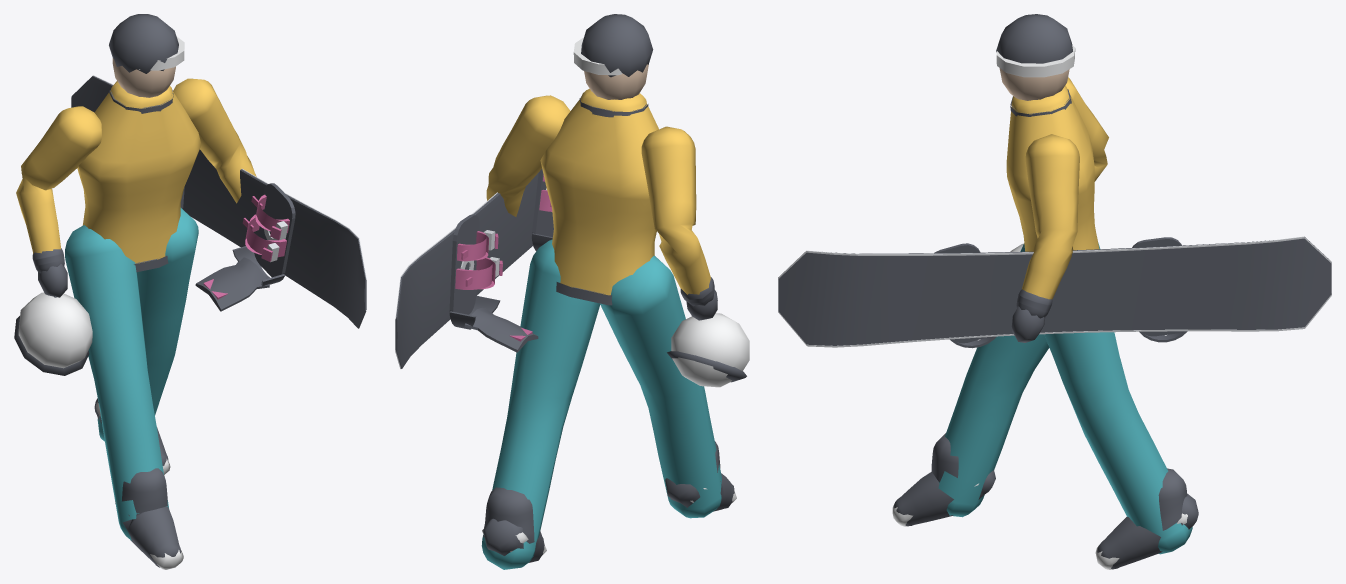
File: snowboard-gear-and-freestyle-riders-rider-walking-with-1fae8e08__27173.glb
3 views of the same model, side by side, from view 1: azimuth 30°, elevation 25°; view 2: azimuth 150°, elevation 25°; view 3: azimuth 270°, elevation 25° (orthographic). The views are drawn at different scales.
Parts seen in each view (by area): view 1: rider-walking-with-board; view 2: rider-walking-with-board; view 3: rider-walking-with-board.
Part boxes in pixels (bbox=[...]): rider-walking-with-board: bbox=[14, 14, 366, 569]; rider-walking-with-board: bbox=[395, 14, 749, 569]; rider-walking-with-board: bbox=[778, 14, 1331, 569].
Size of the model in its own units: 0.871 by 1.66 by 1.58.
